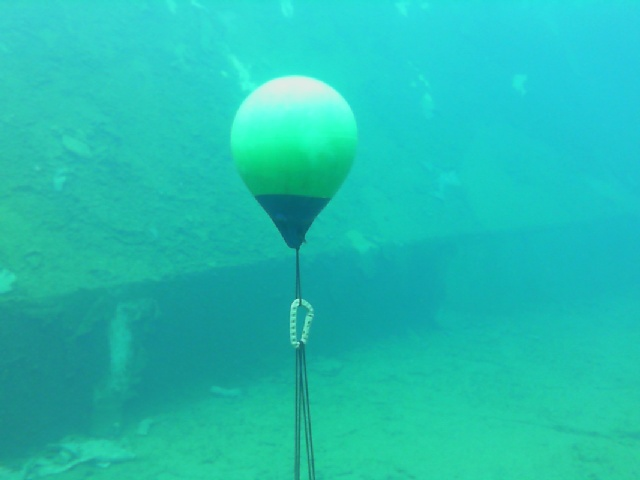buoy_green: (228, 69, 361, 248)
